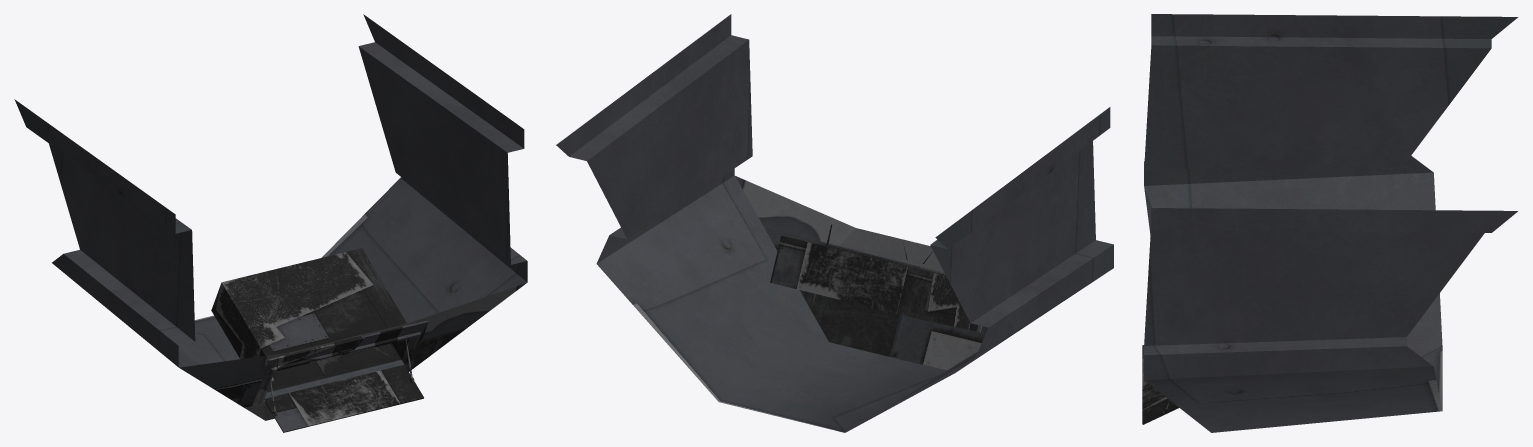
The model's file is HCD16.fbx.
3 views of the same model, side by side, from view 1: azimuth 30°, elevation 25°; view 2: azimuth 150°, elevation 25°; view 3: azimuth 270°, elevation 25° (orthographic). The views are drawn at different scales.
Visible parts, largest first — view 1: sixteenD; view 2: sixteenD; view 3: sixteenD.
Boxes of the visible parts, box(x1,y1,x2,y2) form: sixteenD: box(14, 14, 527, 432); sixteenD: box(556, 14, 1113, 432); sixteenD: box(1142, 14, 1518, 432).
Size of the model in its own units: 5948 by 4141 by 4878.
1 material, 1 textured.
